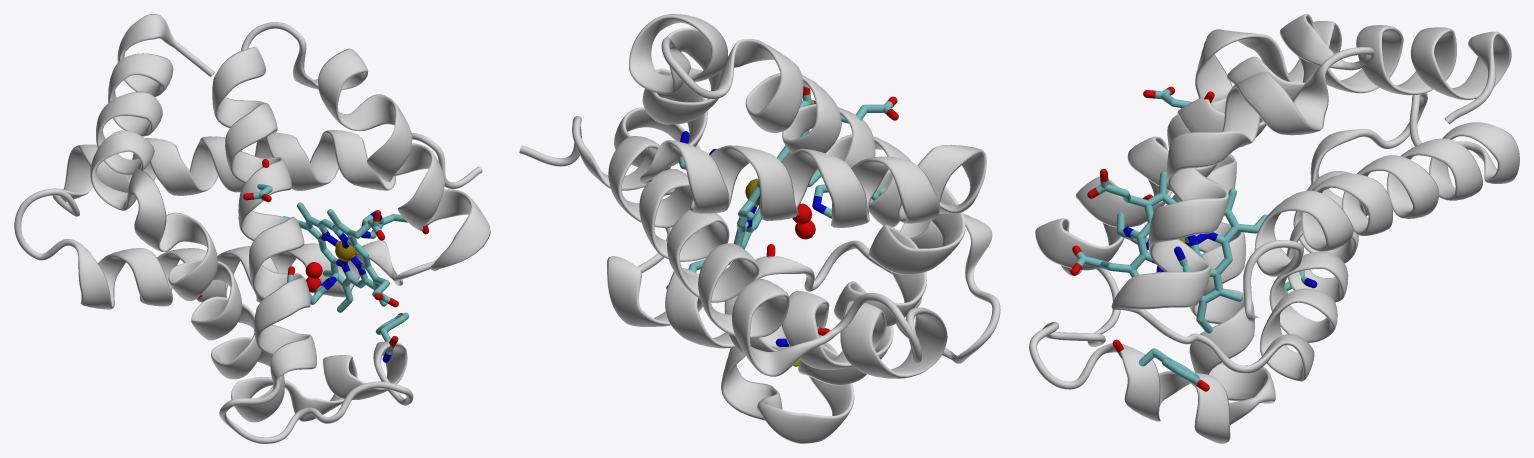
The model's file is frame08.gltf.
3 views of the same model, side by side, from view 1: azimuth 30°, elevation 25°; view 2: azimuth 150°, elevation 25°; view 3: azimuth 270°, elevation 25° (orthographic). The views are drawn at different scales.
Visible parts, largest first — view 1: vmd_mol8_rep3, vmd_mol8_rep2, vmd_mol8_rep1; view 2: vmd_mol8_rep3, vmd_mol8_rep1, vmd_mol8_rep2, vmd_mol8_rep4; view 3: vmd_mol8_rep3, vmd_mol8_rep2, vmd_mol8_rep1.
Part boxes in pixels (x1=…): vmd_mol8_rep3: x1=14, y1=14, x2=490, y2=443; vmd_mol8_rep2: x1=283, y1=202, x2=398, y2=312; vmd_mol8_rep1: x1=197, y1=159, x2=429, y2=362; vmd_mol8_rep3: x1=519, y1=14, x2=1000, y2=443; vmd_mol8_rep1: x1=666, y1=96, x2=898, y2=366; vmd_mol8_rep2: x1=728, y1=86, x2=821, y2=265; vmd_mol8_rep4: x1=792, y1=203, x2=815, y2=239; vmd_mol8_rep3: x1=1029, y1=14, x2=1519, y2=443; vmd_mol8_rep2: x1=1070, y1=169, x2=1267, y2=333; vmd_mol8_rep1: x1=1112, y1=86, x2=1317, y2=391.
Size of the model in its own units: 1.41 by 1.19 by 1.3.
